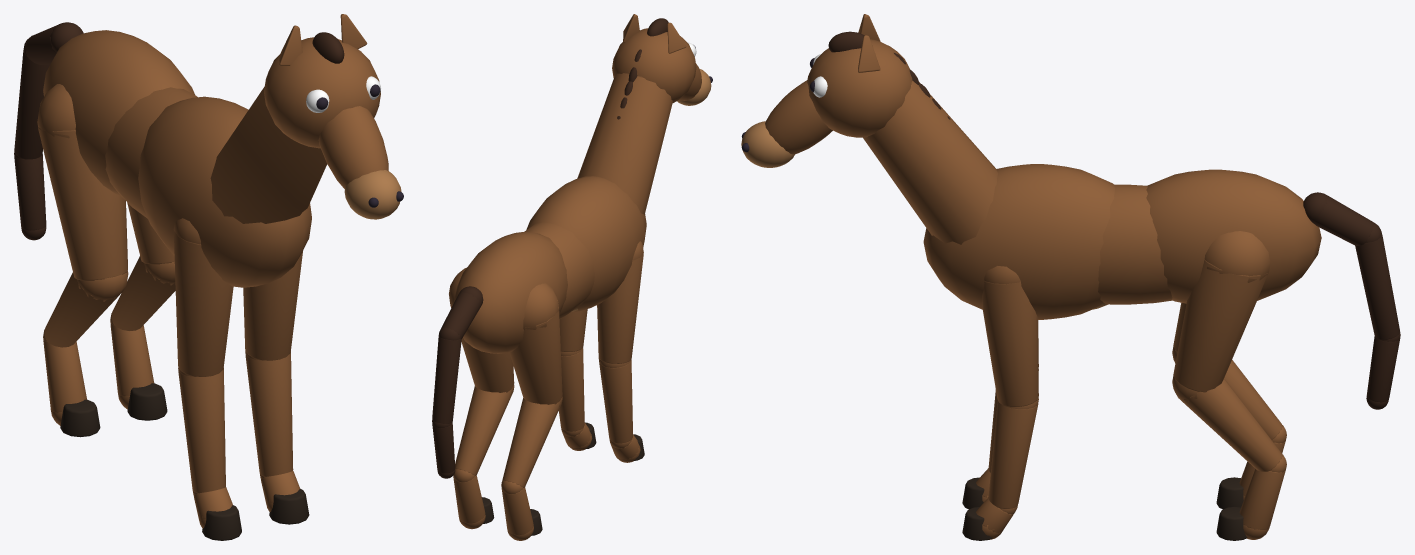
The model's file is horse.glb.
3 views of the same model, side by side, from view 1: azimuth 30°, elevation 25°; view 2: azimuth 150°, elevation 25°; view 3: azimuth 270°, elevation 25° (orthographic). The views are drawn at different scales.
Parts seen in each view (by area): view 1: horse; view 2: horse; view 3: horse.
Boxes of the visible parts, x1,y1,x2,y2 form: horse: (14, 14, 403, 540); horse: (432, 14, 712, 540); horse: (741, 14, 1400, 540).
Size of the model in its own units: 0.7378 by 2.76 by 3.3.
